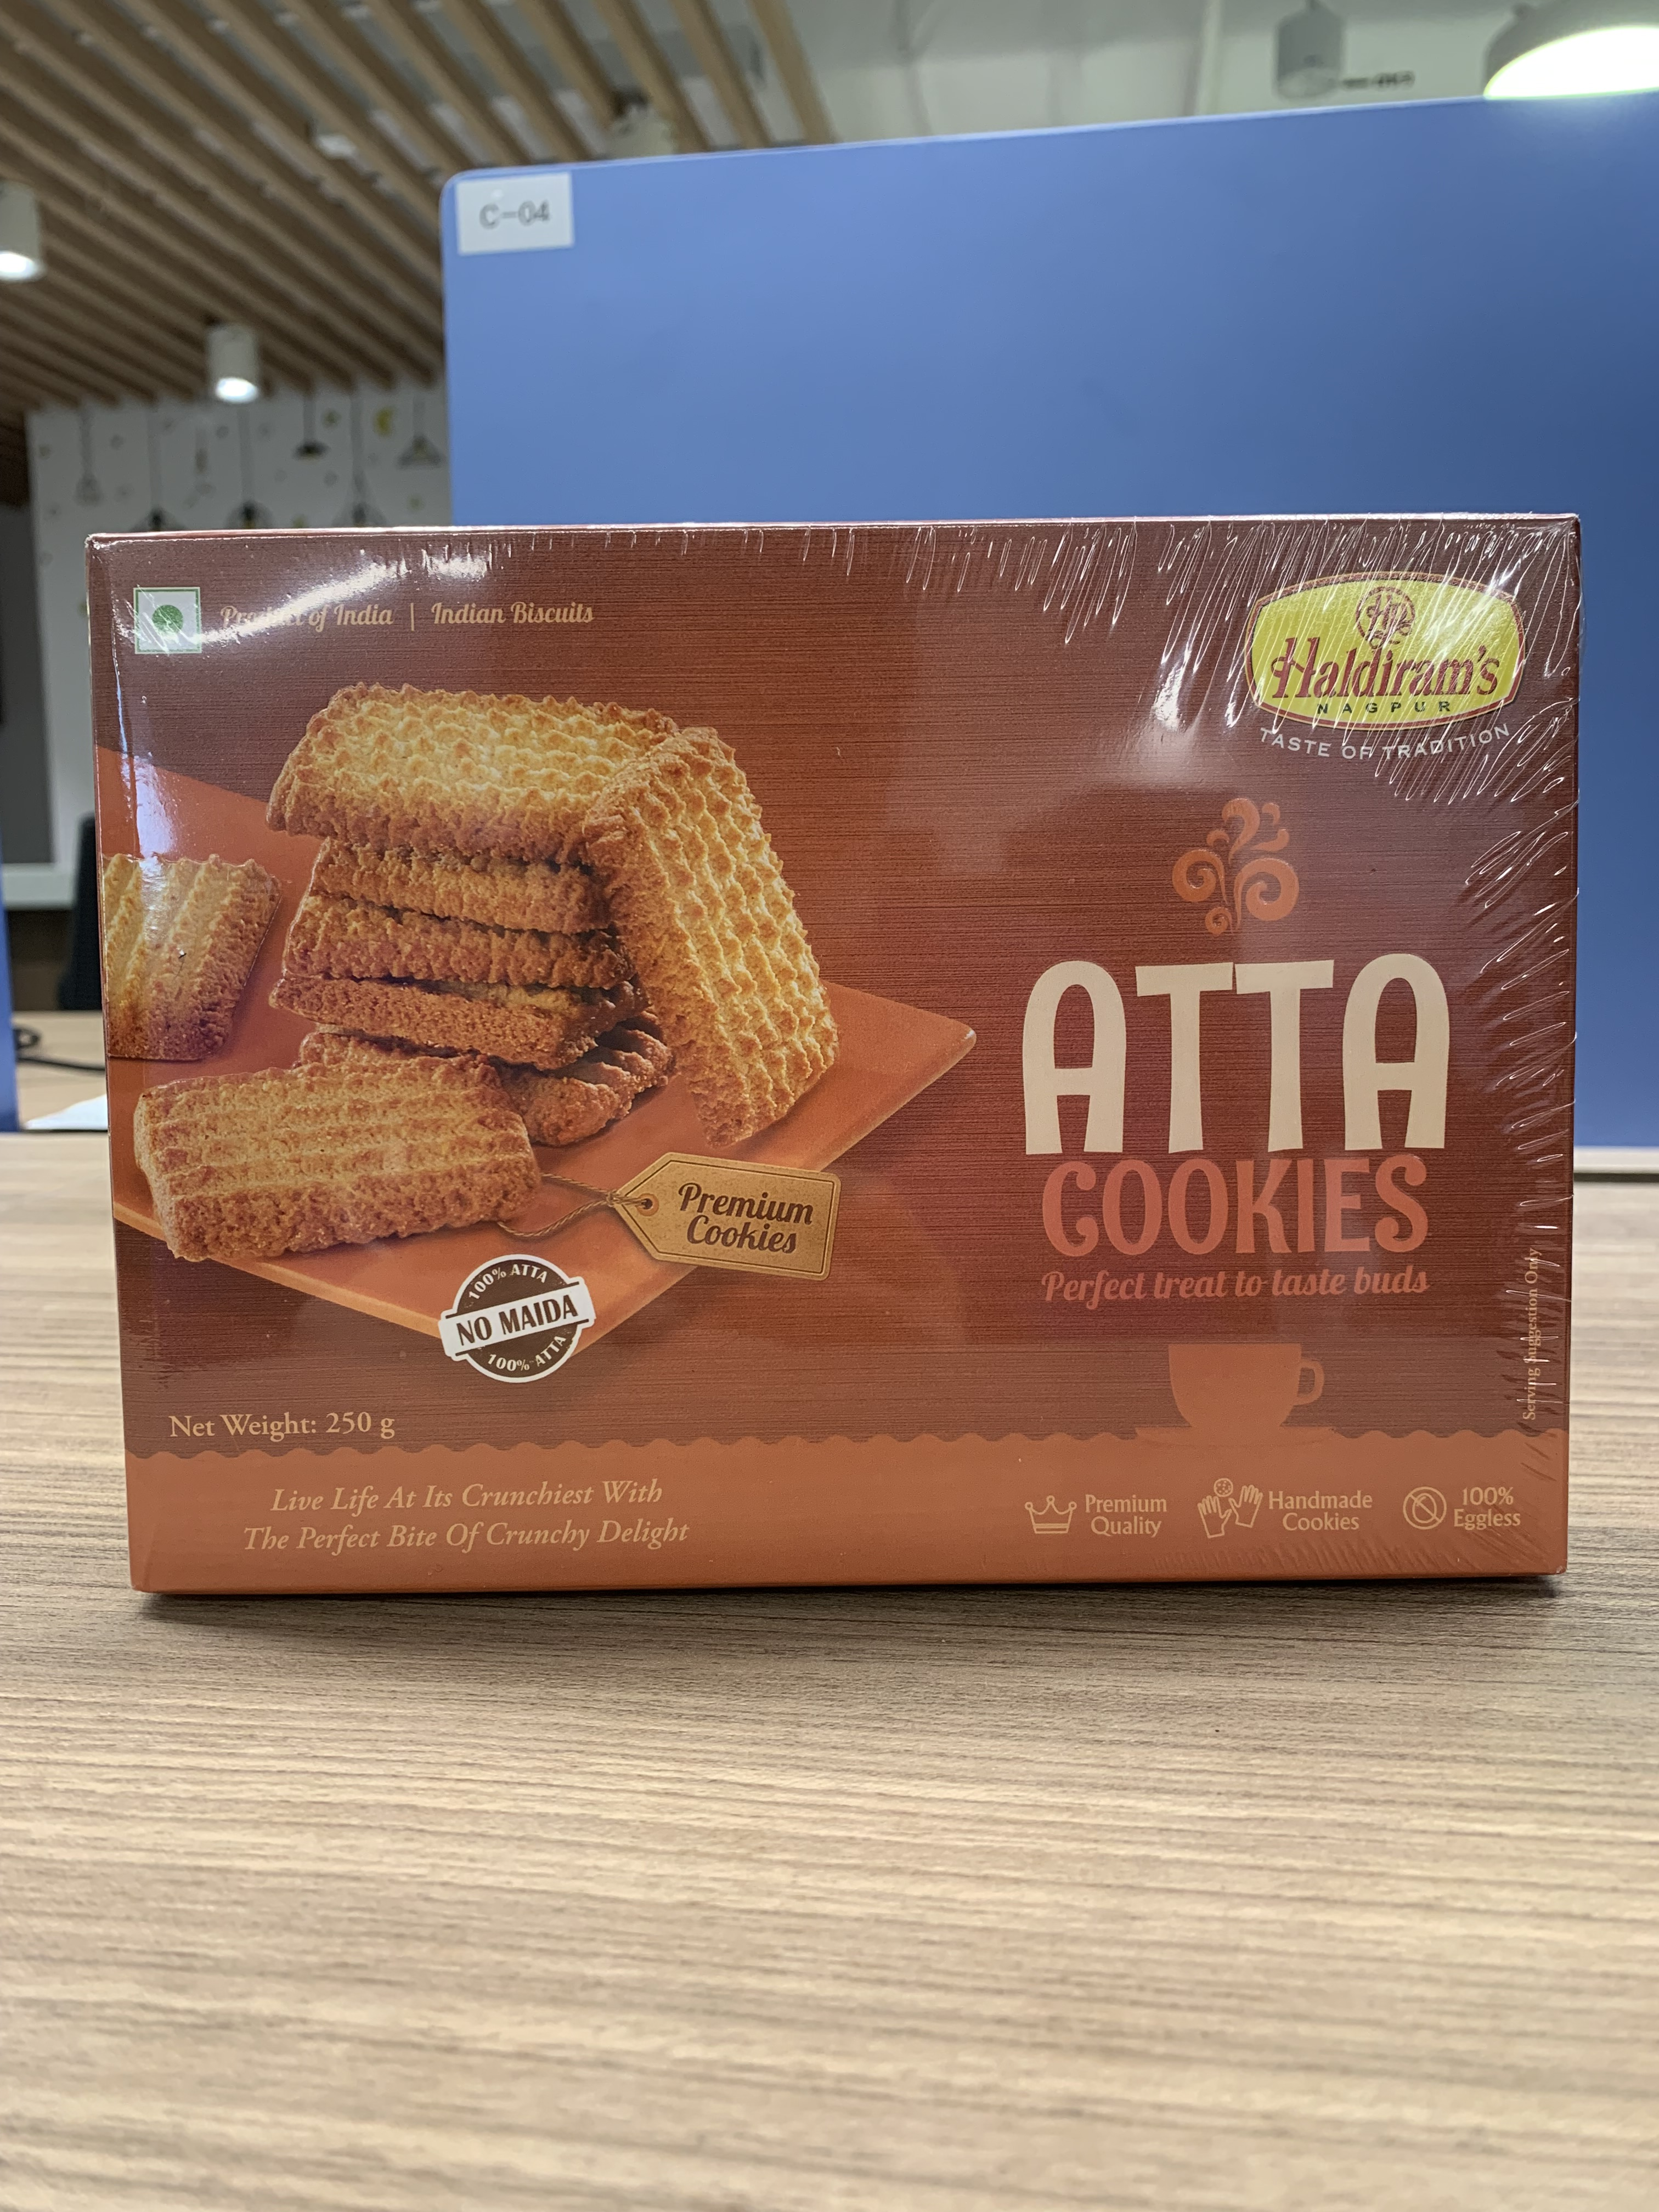cookies_200g-299g: (101, 568, 1572, 1559)
